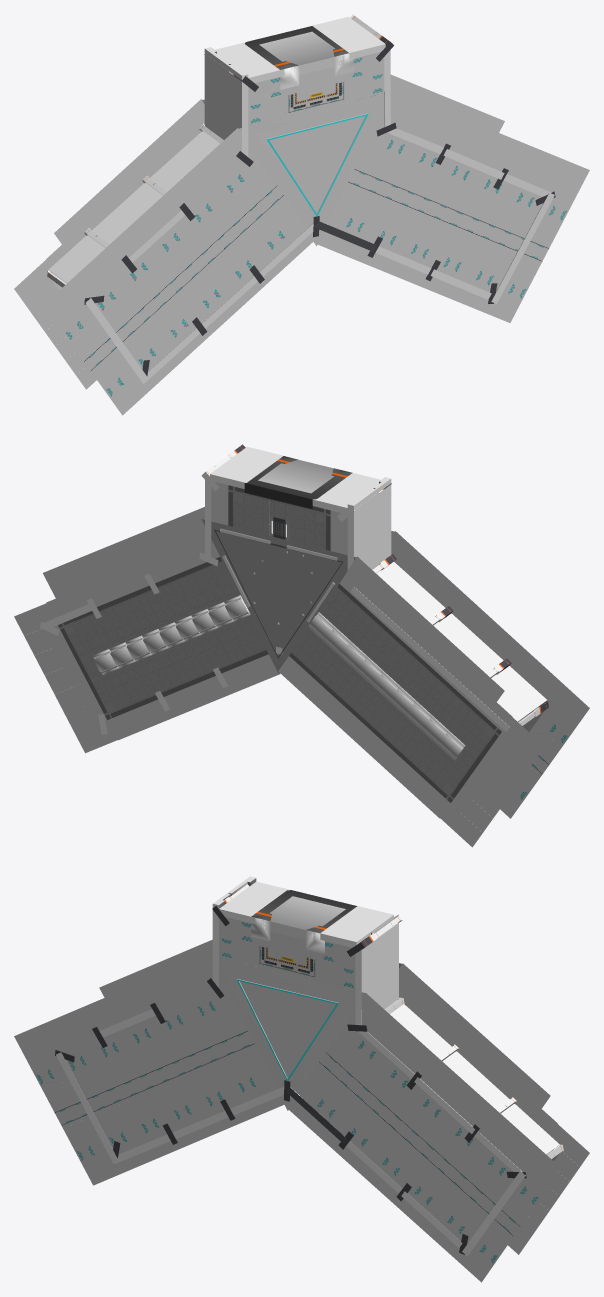
Rendered from ENV_Room1 (3D pipes).fbx.
The picture shows the model from 3 angles, top to bottom: view 1: azimuth 30°, elevation 25°; view 2: azimuth 150°, elevation 25°; view 3: azimuth 330°, elevation 25°; orthographic projection.
Parts seen in each view (by area): view 1: Plane.039, Plane.160, Cone.002, Plane.161, Plane.137, Final Door.002, TEXTURED_WT_ExposedPanel.012, Plane.136, b.016, Plane.138, TEXTURED_WT_ExposedPanel.010, b.015 (+7 smaller); view 2: Plane.138, Plane.137, Cylinder.007, Plane.160, Plane.136, Ver3, Ver3.001, TEXTURED_WT_ExposedPanel.012, Final Door.002, b.016, b.015, b.017 (+4 smaller); view 3: Plane.160, Plane.039, Cone.002, Plane.138, Plane.161, Final Door.002, TEXTURED_WT_ExposedPanel.009, a.021, TEXTURED_WT_ExposedPanel.010, a.019, Plane.137, a.020 (+6 smaller).
Part boxes in pixels (x1=…): Plane.039: x1=316, y1=90, x2=589, y2=322; Plane.160: x1=43, y1=128, x2=315, y2=415; Cone.002: x1=238, y1=90, x2=395, y2=246; Plane.161: x1=248, y1=52, x2=384, y2=125; Plane.137: x1=54, y1=99, x2=204, y2=251; Final Door.002: x1=245, y1=26, x2=353, y2=89; TEXTURED_WT_ExposedPanel.012: x1=204, y1=47, x2=248, y2=156; Plane.136: x1=14, y1=244, x2=96, y2=389; b.016: x1=92, y1=183, x2=184, y2=262; Plane.138: x1=390, y1=74, x2=504, y2=132; TEXTURED_WT_ExposedPanel.010: x1=312, y1=16, x2=385, y2=59; b.015: x1=149, y1=131, x2=219, y2=191; Plane.138: x1=53, y1=518, x2=280, y2=733; Plane.137: x1=278, y1=556, x2=504, y2=803; Cylinder.007: x1=201, y1=519, x2=355, y2=673; Plane.160: x1=391, y1=531, x2=589, y2=818; Plane.136: x1=424, y1=702, x2=544, y2=847; Ver3: x1=308, y1=612, x2=465, y2=760; Ver3.001: x1=93, y1=595, x2=250, y2=674; TEXTURED_WT_ExposedPanel.012: x1=347, y1=477, x2=391, y2=570; Final Door.002: x1=244, y1=456, x2=352, y2=508; b.016: x1=408, y1=613, x2=503, y2=695; b.015: x1=350, y1=562, x2=445, y2=643; b.017: x1=466, y1=666, x2=546, y2=731; Plane.160: x1=14, y1=954, x2=286, y2=1185; Plane.039: x1=287, y1=993, x2=561, y2=1282; Cone.002: x1=209, y1=955, x2=366, y2=1110; Plane.138: x1=399, y1=963, x2=550, y2=1120; Plane.161: x1=219, y1=917, x2=355, y2=990; Final Door.002: x1=251, y1=890, x2=356, y2=954; TEXTURED_WT_ExposedPanel.009: x1=355, y1=922, x2=398, y2=1025; a.021: x1=414, y1=1051, x2=509, y2=1133; TEXTURED_WT_ExposedPanel.010: x1=320, y1=906, x2=393, y2=947; a.019: x1=358, y1=1004, x2=451, y2=1078; Plane.137: x1=99, y1=939, x2=212, y2=997; a.020: x1=474, y1=1104, x2=559, y2=1171.
Size of the model in its own units: 12817 by 7013 by 1596.
Materials: 23 (17 with a texture image).
